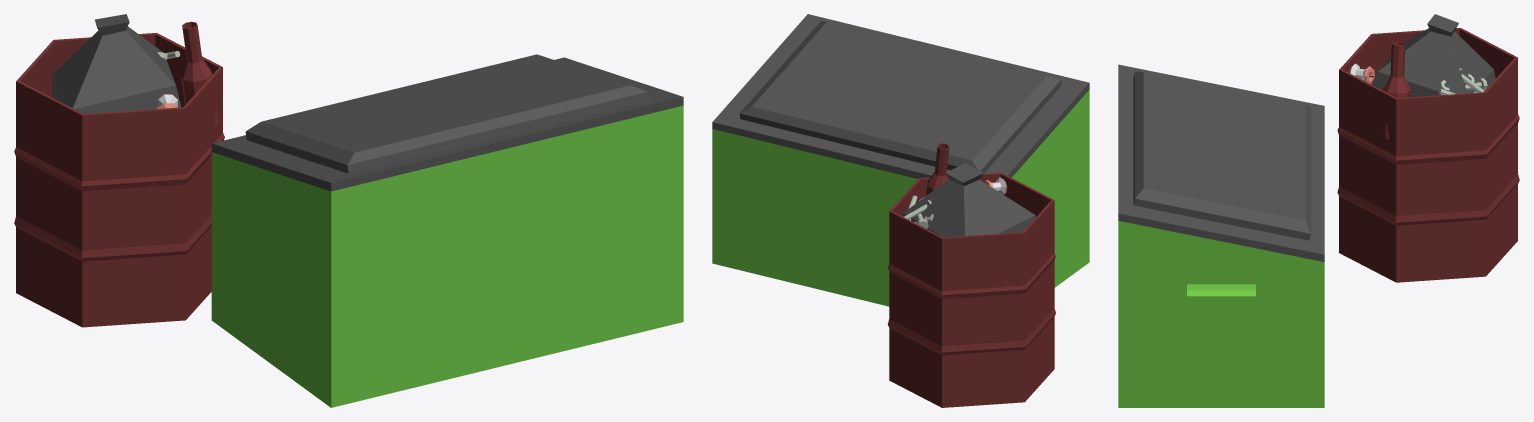
The model's file is déchet mesh 2.fbx.
The picture shows the model from 3 angles, left to right: view 1: azimuth 30°, elevation 25°; view 2: azimuth 150°, elevation 25°; view 3: azimuth 270°, elevation 25°; orthographic projection. The views are drawn at different scales.
Visible parts, largest first — view 1: entrepot dechets 6.011; view 2: entrepot dechets 6.011; view 3: entrepot dechets 6.011.
Boxes of the visible parts, left/top/right/bottom form: entrepot dechets 6.011: left=14, top=14, right=683, bottom=407; entrepot dechets 6.011: left=712, top=14, right=1089, bottom=407; entrepot dechets 6.011: left=1118, top=14, right=1519, bottom=407.
Bounding box in the file's own units: 475 × 242 × 389.
